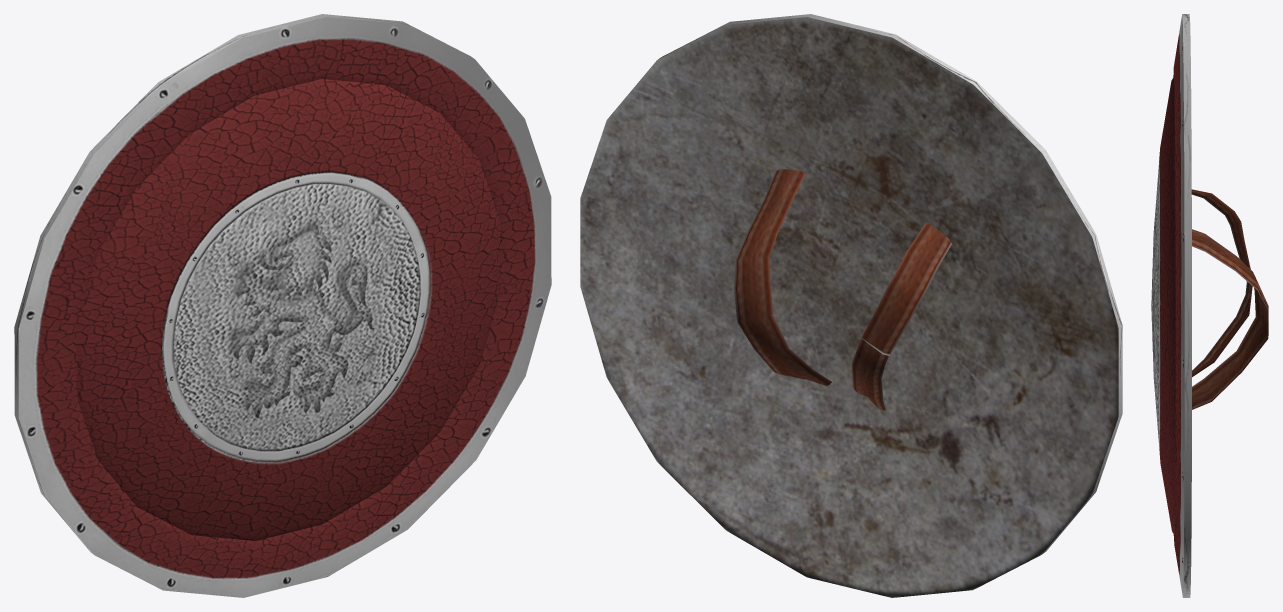
Rendered from Shield_02.fbx.
3 views of the same model, side by side, from view 1: azimuth 30°, elevation 25°; view 2: azimuth 150°, elevation 25°; view 3: azimuth 270°, elevation 25° (orthographic). The views are drawn at different scales.
Parts seen in each view (by area): view 1: Shield_02; view 2: Shield_02; view 3: Shield_02.
Boxes of the visible parts, bbox=[...] form: Shield_02: bbox=[14, 14, 551, 597]; Shield_02: bbox=[580, 14, 1122, 597]; Shield_02: bbox=[1151, 14, 1268, 597].
Bounding box in the file's own units: 62.04 × 62.03 × 12.61.
1 material, 1 textured.
